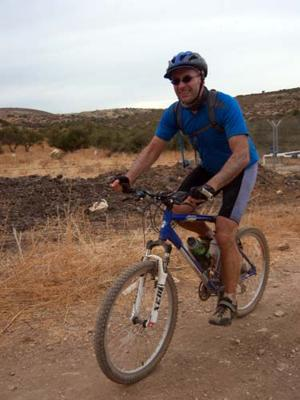person: (110, 50, 258, 330)
